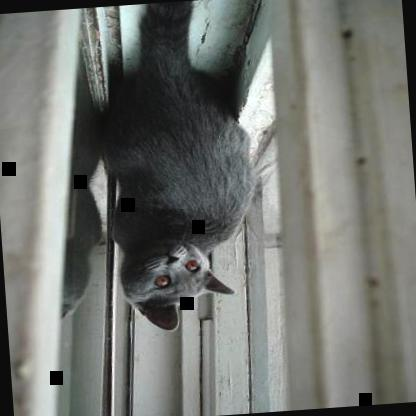cat: (93, 0, 264, 337)
